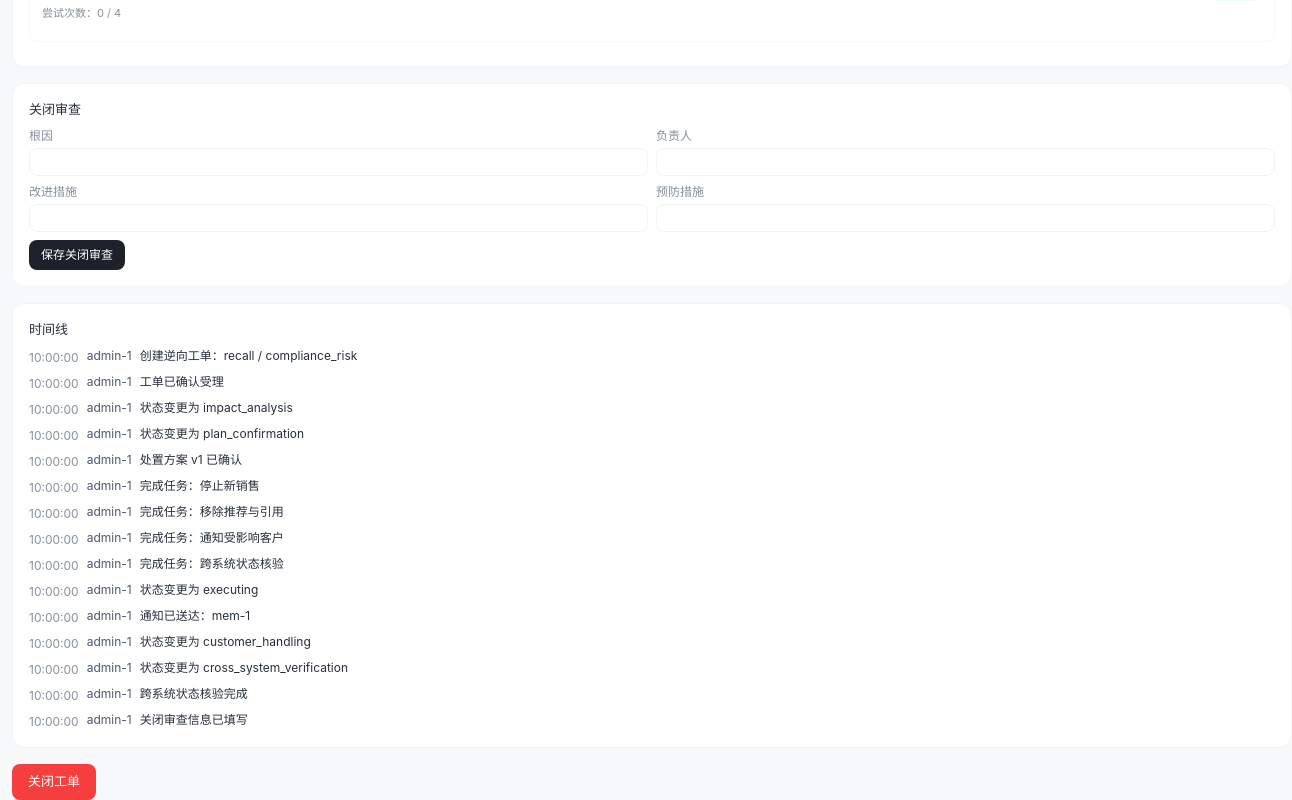
Test case: ReverseWorkOrderDetail › S1/S2 initiator cannot confirm and close alone
This screenshot has width=1292, height=800.
(page scrolled)
# Try to close by same person
What coordinates should you click on to do the following:
click the button with test id "close-btn"
I would click on:
 (54, 782)
Its box is [12,764,96,799].
(page scrolled)
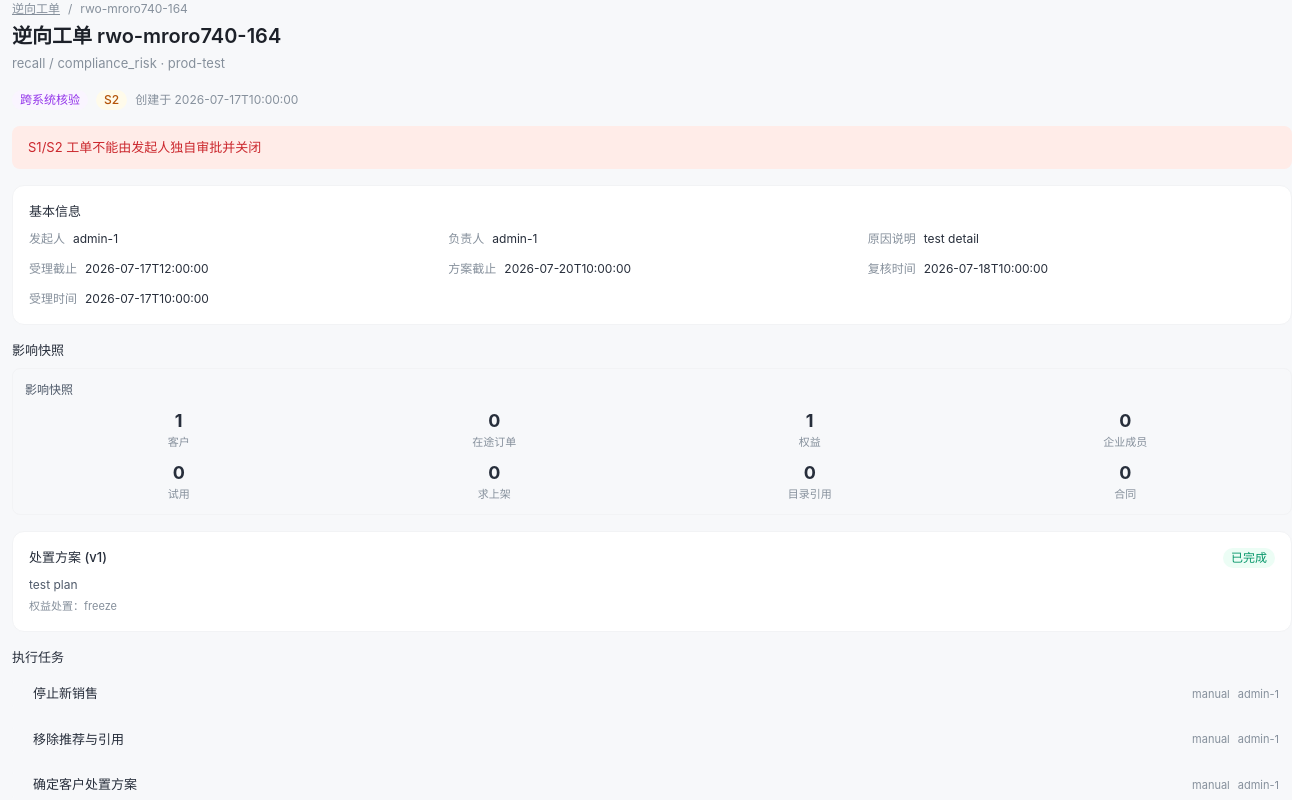
Result: the text with test id "gate-error" shows "S1/S2" at [28,138,261,154]
